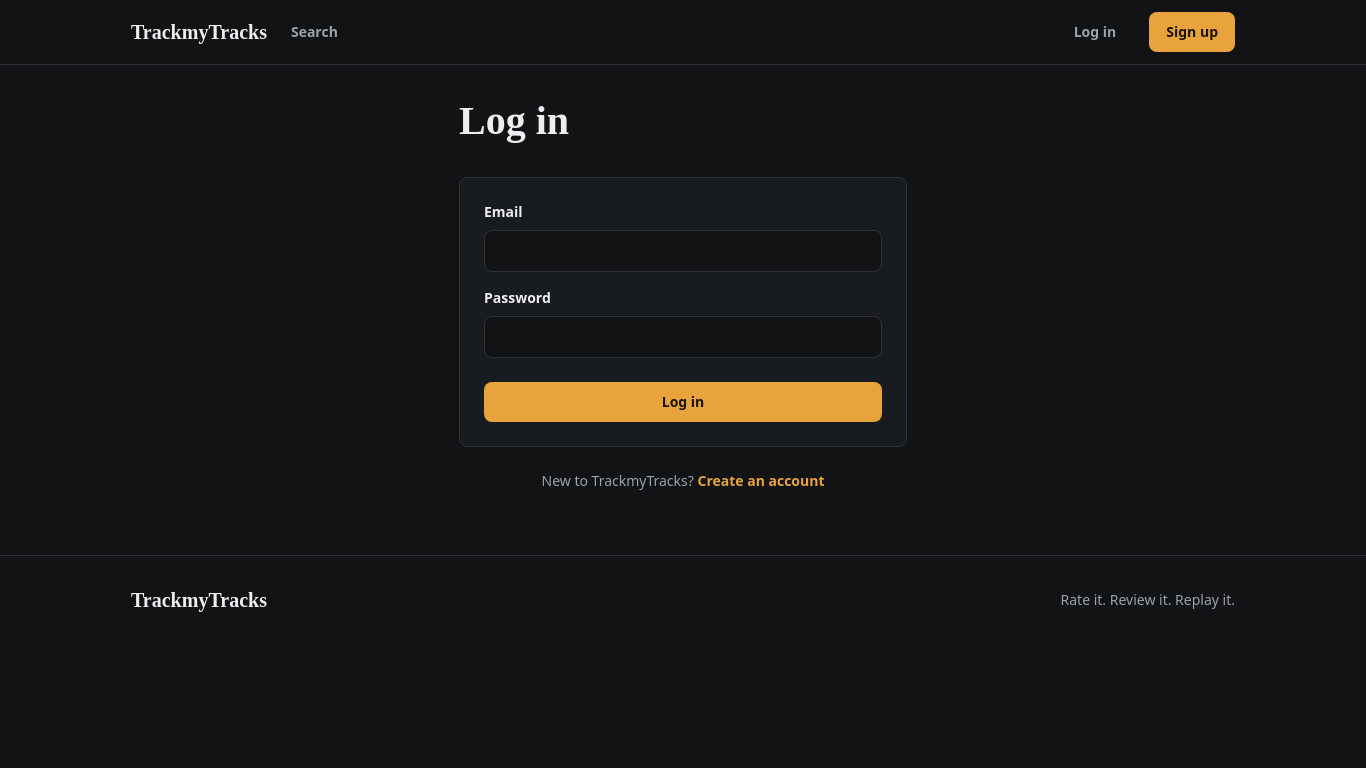
Test: LoginPage › shows the server error and stays on the page
This screenshot has width=1366, height=768.
Type "alice@example.com" into the field labelled "Email" at (683,251), box [484,230,882,272]
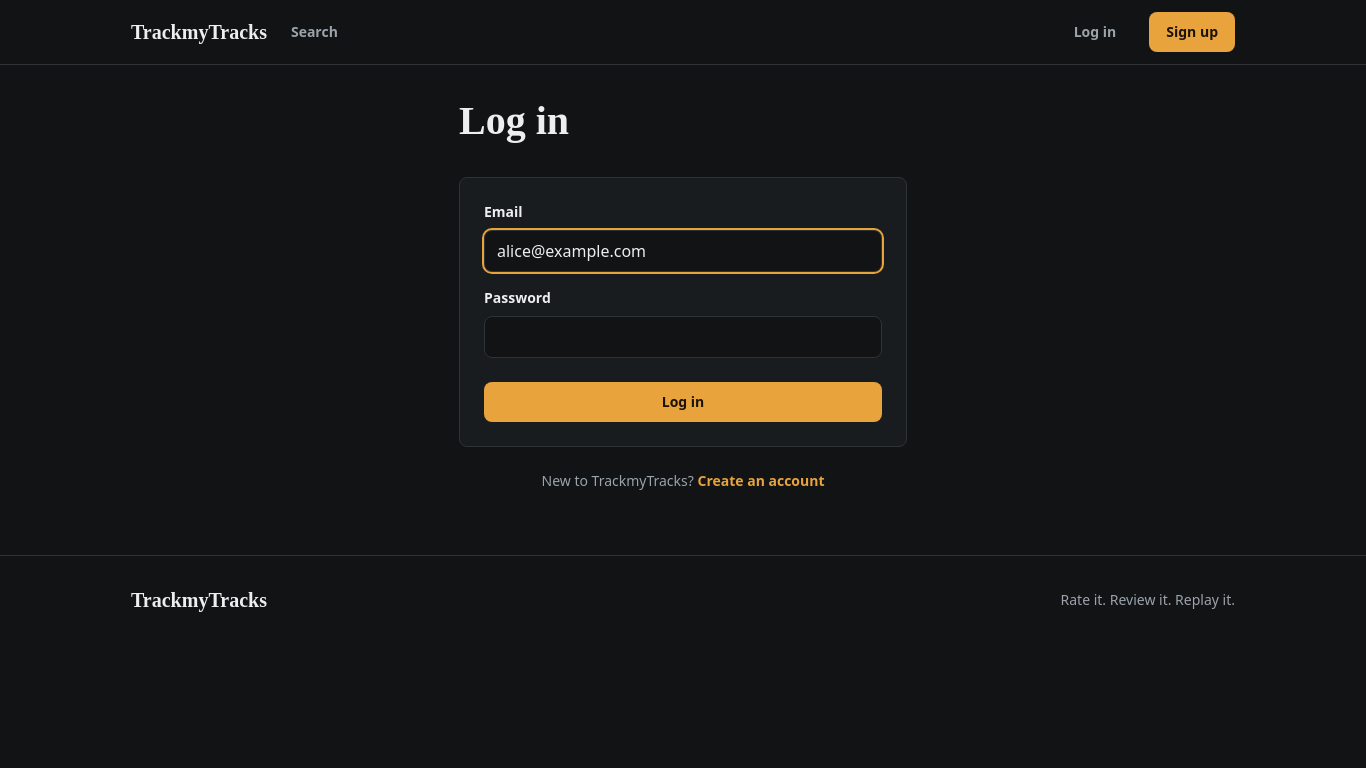
Type "password123" into the password field labelled "Password" at (683,337), box [484,316,882,358]
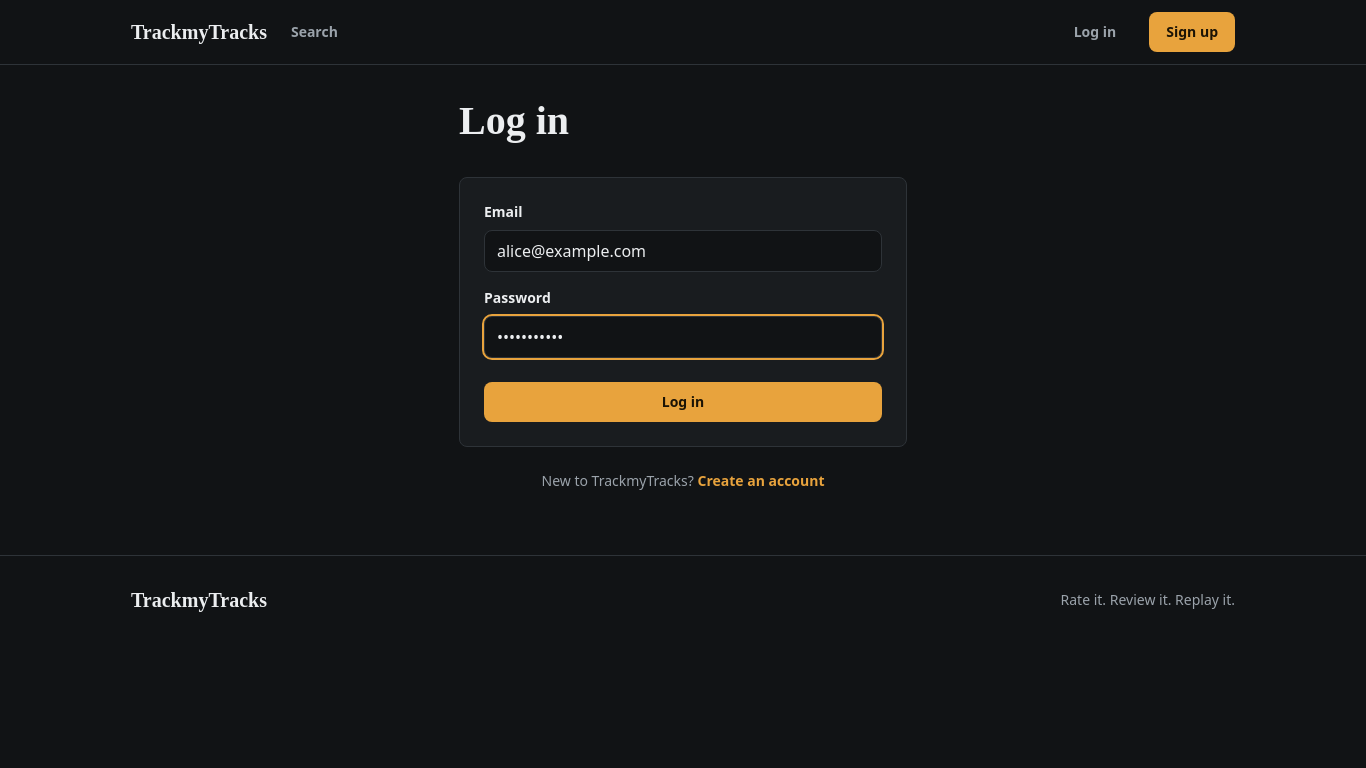
Click the button "Log in" at (683,402), box [484,382,882,422]
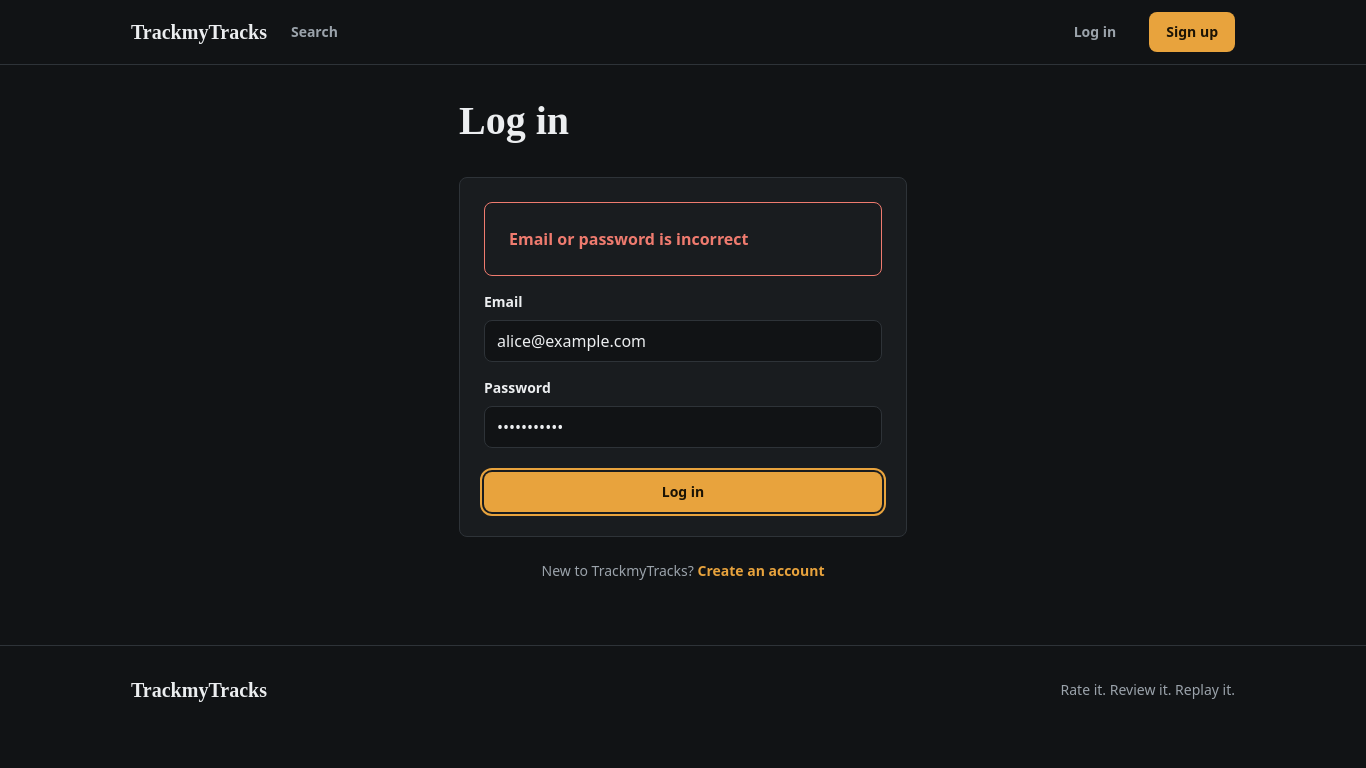
Expected: the message reads "Email or password is incorrect", [509,228,748,250]
